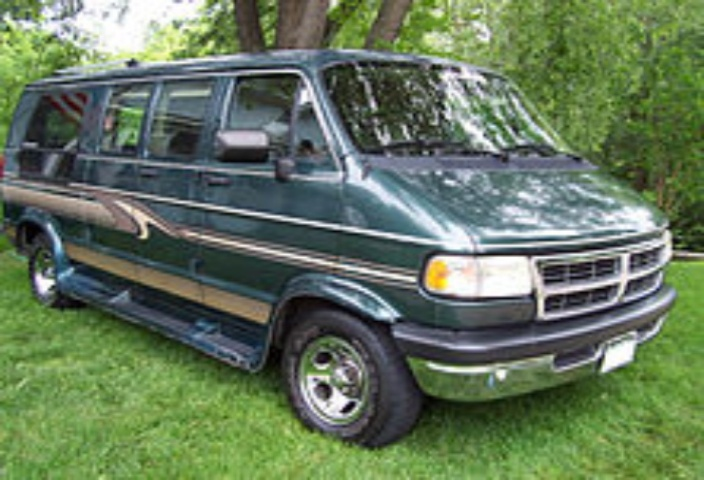van: (8, 42, 685, 445)
